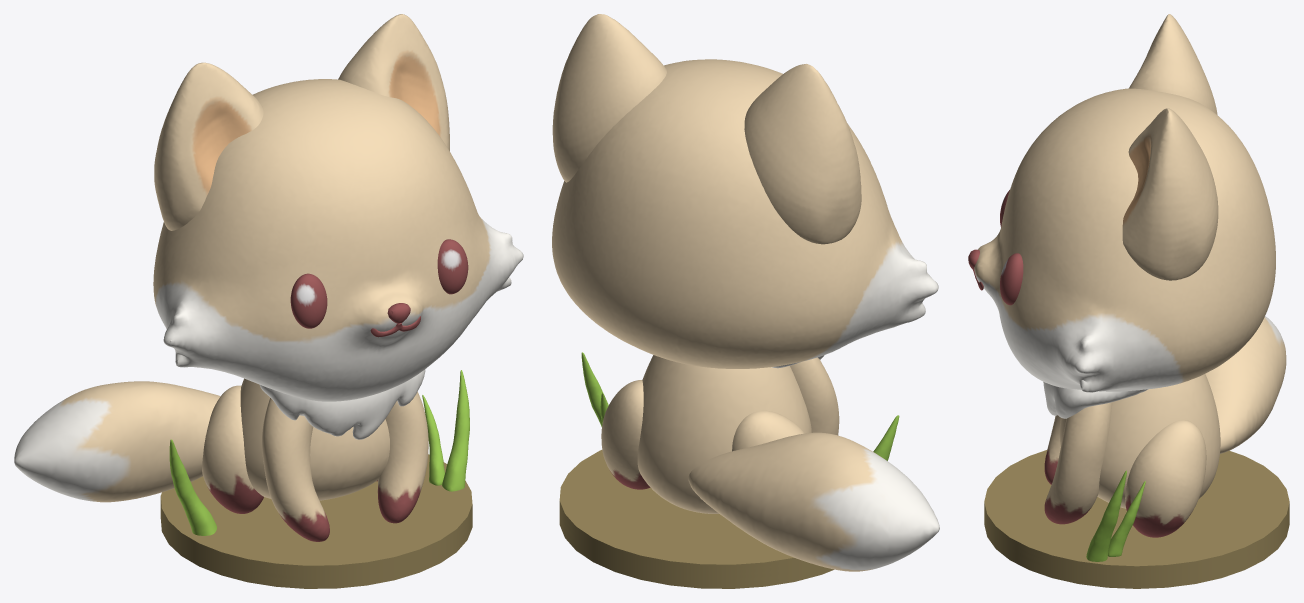
File: fox.gltf
3 renders of one model, left to right at view 1: azimuth 30°, elevation 25°; view 2: azimuth 150°, elevation 25°; view 3: azimuth 270°, elevation 25°, orthographic. The views are drawn at different scales.
Visible parts, largest first — view 1: Object_15, Object_25, Object_7, Object_9, Object_17, Object_29, Object_27, Object_5, Object_11, Object_23, Object_21, Object_19; view 2: Object_15, Object_9, Object_7, Object_25, Object_29, Object_27, Object_17, Object_23; view 3: Object_15, Object_25, Object_9, Object_29, Object_27, Object_7, Object_17, Object_5, Object_23, Object_11, Object_19.
Boxes of the visible parts, x1,y1,x2,y2 form: Object_15: (153, 79, 523, 401); Object_25: (160, 454, 472, 588); Object_7: (14, 381, 220, 502); Object_9: (154, 14, 449, 230); Object_17: (262, 391, 428, 541); Object_29: (240, 378, 389, 500); Object_27: (202, 385, 377, 513); Object_5: (260, 369, 425, 439); Object_11: (290, 239, 468, 328); Object_23: (442, 370, 469, 491); Object_21: (169, 439, 216, 535); Object_19: (422, 395, 444, 485); Object_15: (552, 59, 938, 368); Object_9: (552, 14, 861, 244); Object_7: (688, 432, 939, 571); Object_25: (559, 450, 833, 588); Object_29: (637, 355, 811, 513); Object_27: (601, 380, 804, 489); Object_17: (790, 357, 839, 435); Object_23: (581, 352, 608, 426); Object_15: (974, 88, 1275, 392); Object_25: (984, 450, 1289, 588); Object_9: (1122, 14, 1218, 280); Object_29: (1059, 374, 1220, 508); Object_27: (1125, 420, 1206, 537); Object_7: (1205, 316, 1286, 453); Object_17: (1044, 402, 1112, 524); Object_5: (1043, 382, 1147, 418); Object_23: (1086, 470, 1126, 561); Object_11: (1000, 190, 1023, 305); Object_19: (1108, 481, 1145, 556).
Size of the model in its own units: 3.53 by 3.67 by 2.31.
